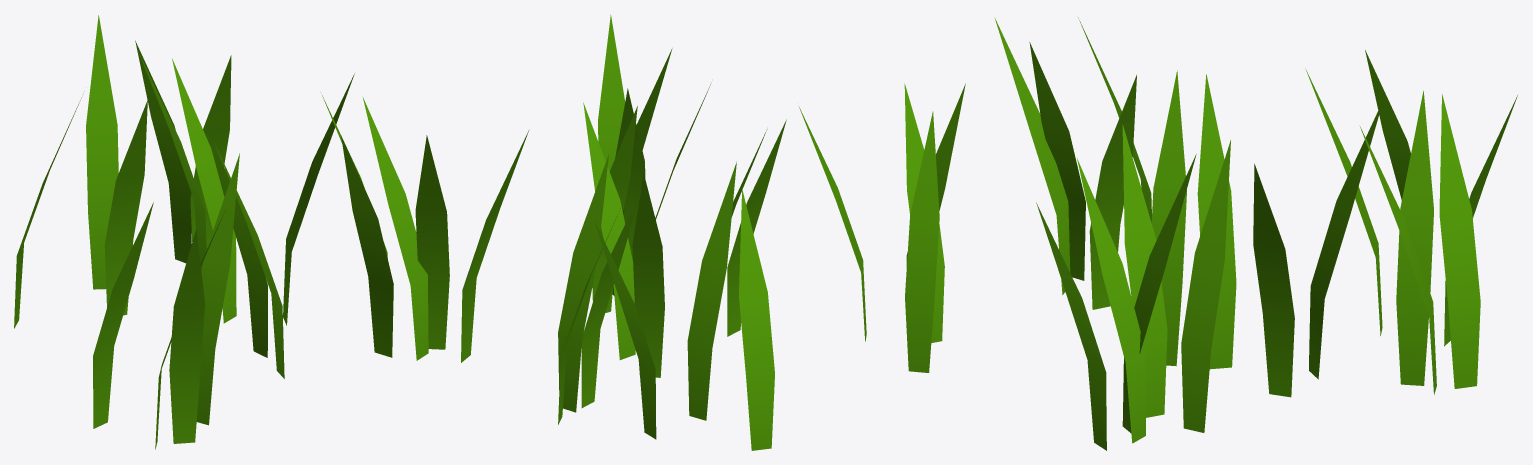
Rendered from Gram1.fbx.
The picture shows the model from 3 angles, left to right: view 1: azimuth 30°, elevation 25°; view 2: azimuth 150°, elevation 25°; view 3: azimuth 270°, elevation 25°; orthographic projection. The views are drawn at different scales.
Parts seen in each view (by area): view 1: Gram1; view 2: Gram1; view 3: Gram1.
Boxes of the visible parts, left/top/right/bottom form: Gram1: left=14, top=15, right=529, bottom=449; Gram1: left=558, top=14, right=965, bottom=450; Gram1: left=994, top=17, right=1517, bottom=450.
Size of the model in its own units: 14.12 by 8.51 by 15.37.
